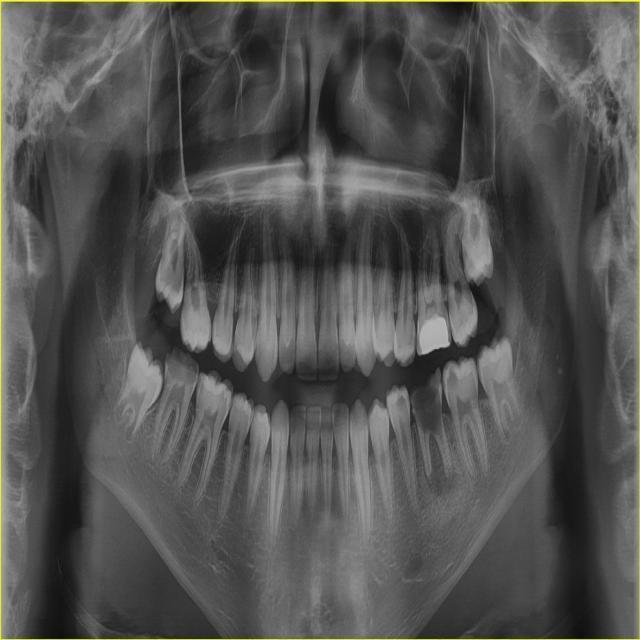Caries: (410, 370, 442, 434), (166, 349, 198, 387), (396, 392, 408, 414), (447, 368, 459, 388), (196, 375, 205, 392), (410, 330, 415, 349)
Filling: (419, 314, 449, 355)
Periapical lesion: (429, 436, 455, 493), (421, 436, 443, 494), (466, 460, 482, 485)
impacted tooth: (119, 339, 163, 439), (151, 210, 185, 306), (465, 197, 498, 288)
